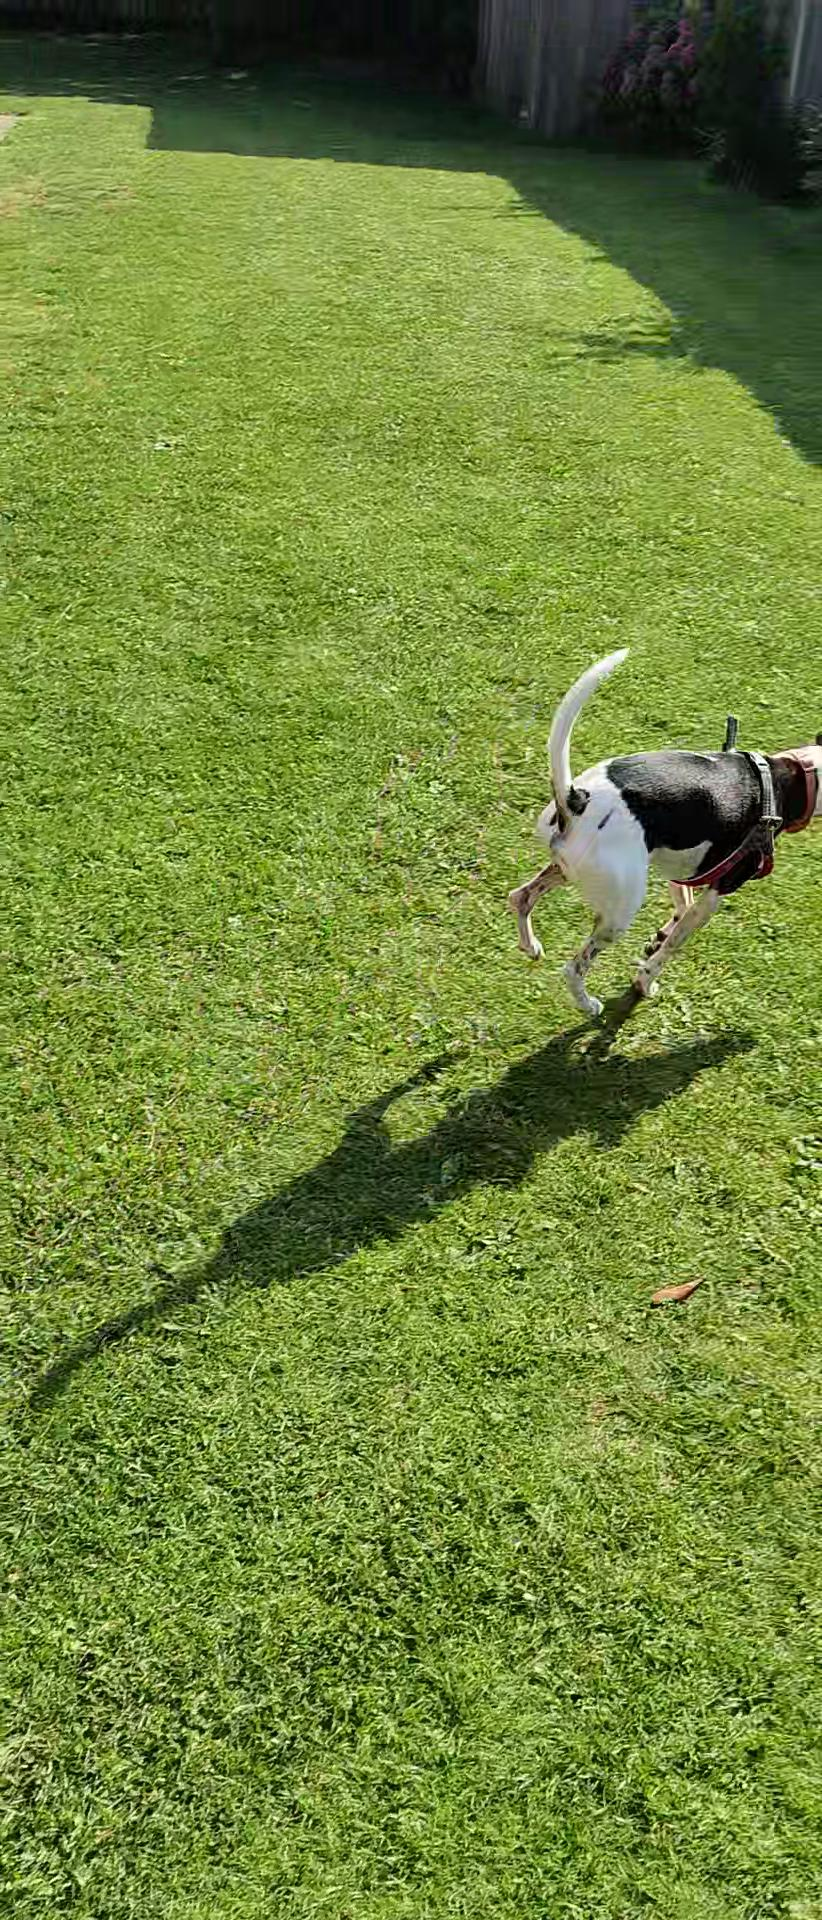Dog: (491, 628, 821, 1046)
